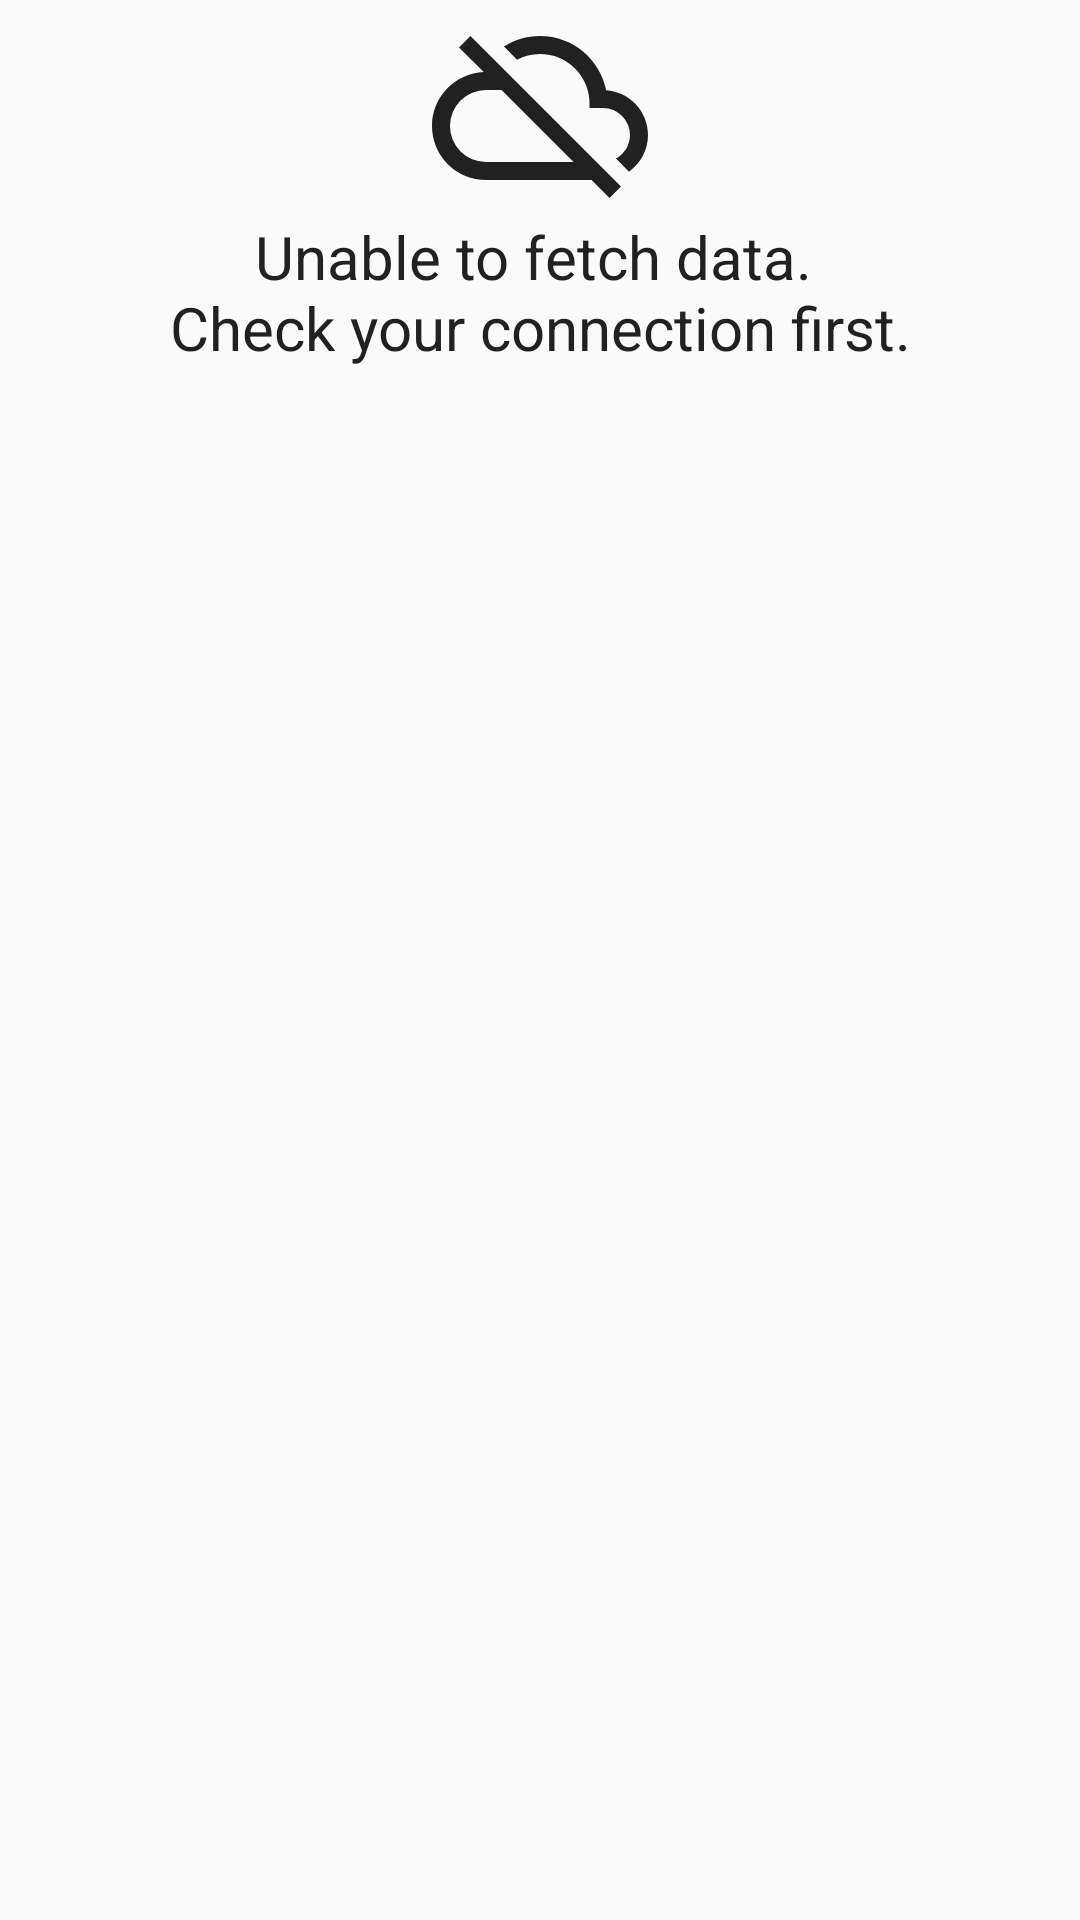

Icon click points for this 1080 x 1920 phone screenshot, format (x,y):
cloud off: (540,117)
